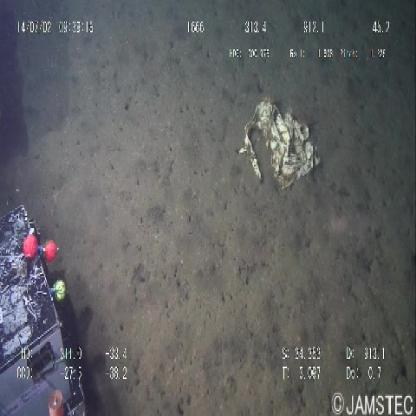Rov: (1, 179, 100, 414)
Rác: (232, 90, 325, 198)
